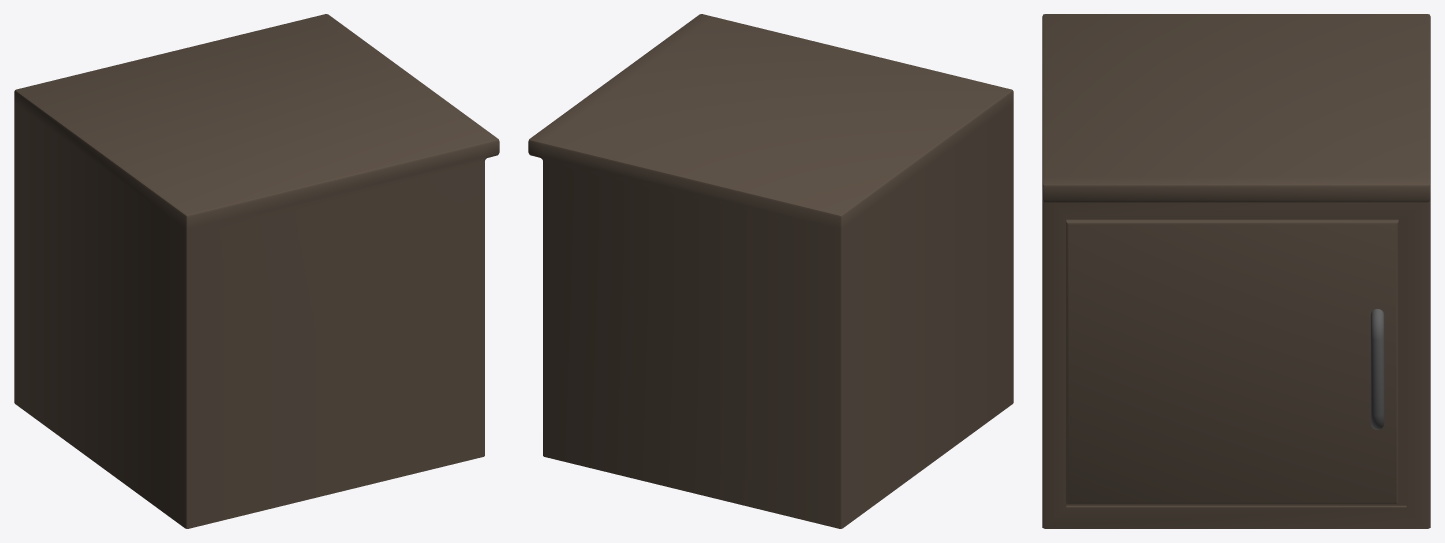
The model's file is Cabine_Petit_1.fbx.
3 renders of one model, left to right at view 1: azimuth 30°, elevation 25°; view 2: azimuth 150°, elevation 25°; view 3: azimuth 270°, elevation 25°, orthographic. The views are drawn at different scales.
Parts seen in each view (by area): view 1: Cabine_Petit_1; view 2: Cabine_Petit_1; view 3: Cabine_Petit_1.
Boxes of the visible parts, bbox=[...] form: Cabine_Petit_1: bbox=[14, 14, 499, 528]; Cabine_Petit_1: bbox=[528, 14, 1013, 528]; Cabine_Petit_1: bbox=[1042, 14, 1430, 528].
Size of the model in its own units: 212 by 200 by 200.
